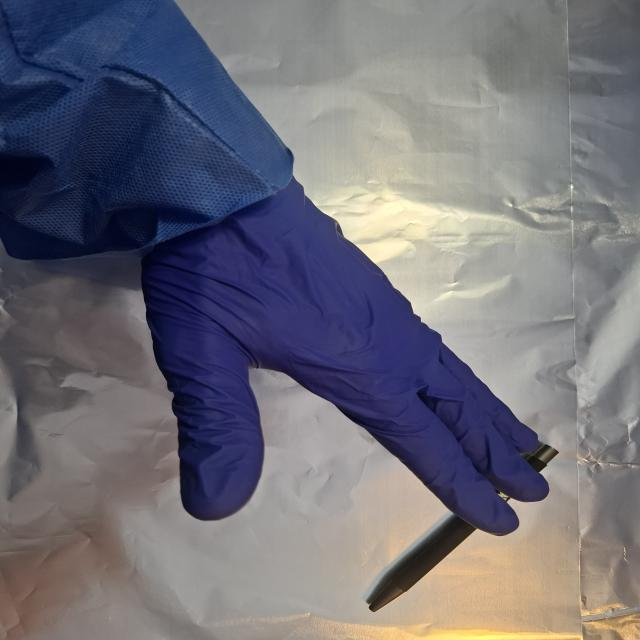glove_on: (137, 173, 552, 538)
